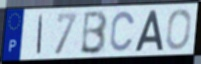7: (56, 11, 79, 56)
A: (134, 10, 165, 53)
B: (79, 9, 109, 56)
C: (108, 10, 136, 54)
I: (36, 13, 45, 55)
O: (165, 8, 193, 52)
